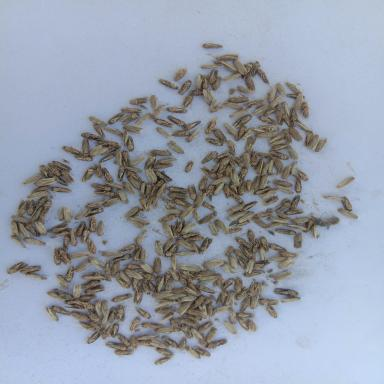pbw: (6, 261, 28, 275), (216, 156, 233, 174), (232, 115, 252, 129), (61, 145, 86, 156), (22, 173, 43, 186), (119, 113, 140, 126), (273, 200, 294, 213), (48, 222, 72, 233), (340, 196, 356, 212), (51, 289, 74, 300), (127, 217, 150, 228), (86, 330, 104, 344), (158, 78, 179, 90), (89, 144, 107, 158), (176, 239, 197, 251), (58, 247, 72, 265), (273, 286, 298, 296), (198, 212, 217, 225), (84, 284, 106, 295), (50, 305, 72, 316), (51, 160, 71, 172), (260, 194, 280, 206), (288, 126, 303, 142), (149, 149, 173, 159), (167, 115, 187, 127), (209, 99, 226, 113), (193, 191, 207, 208), (130, 96, 148, 109), (205, 117, 218, 135), (166, 141, 184, 154), (154, 170, 173, 182), (192, 345, 211, 357), (50, 174, 69, 186), (40, 198, 52, 217), (165, 243, 180, 258), (60, 170, 75, 185), (202, 183, 217, 198), (180, 323, 194, 339), (89, 256, 105, 270), (161, 224, 175, 240), (238, 296, 252, 312), (92, 123, 106, 139), (34, 220, 48, 236), (116, 333, 132, 347), (204, 327, 218, 343), (179, 205, 195, 219), (190, 294, 206, 308), (24, 223, 40, 237), (75, 208, 92, 221), (123, 206, 140, 219), (107, 112, 124, 125), (199, 166, 216, 179), (197, 274, 219, 284), (203, 258, 225, 268), (179, 262, 201, 272), (70, 310, 90, 321), (100, 145, 122, 155), (168, 192, 190, 202), (180, 222, 198, 234), (87, 238, 99, 256), (47, 290, 65, 302), (246, 278, 258, 296), (274, 270, 292, 282), (259, 187, 277, 199), (267, 132, 285, 144), (17, 199, 29, 217), (338, 176, 356, 188), (228, 210, 246, 222), (232, 276, 244, 294), (219, 61, 237, 73), (242, 61, 254, 79), (213, 128, 228, 142), (47, 163, 62, 177), (149, 338, 170, 348), (127, 175, 141, 190), (80, 279, 101, 289), (187, 308, 208, 318), (157, 214, 178, 224), (134, 229, 148, 244), (88, 212, 98, 233), (150, 179, 164, 194), (197, 285, 218, 295), (178, 316, 199, 326), (224, 122, 238, 137), (155, 347, 174, 358), (180, 268, 199, 279), (124, 268, 143, 279), (136, 113, 152, 126), (234, 125, 247, 141), (202, 151, 218, 164), (314, 137, 327, 153), (17, 222, 30, 238), (56, 274, 69, 290), (10, 235, 26, 248), (23, 237, 46, 246), (19, 265, 42, 274), (34, 178, 57, 187), (74, 260, 91, 272), (197, 320, 214, 332), (162, 336, 179, 348), (202, 88, 214, 105), (172, 198, 192, 208), (176, 295, 201, 303), (92, 272, 112, 282), (304, 126, 314, 146), (154, 118, 174, 128), (257, 150, 277, 160), (84, 207, 104, 217), (229, 108, 249, 118), (268, 150, 288, 160), (10, 220, 20, 240), (243, 268, 265, 277), (213, 151, 231, 162), (102, 196, 120, 207), (122, 125, 144, 134), (224, 204, 246, 213), (95, 219, 106, 237), (78, 321, 96, 332), (85, 199, 107, 208), (240, 200, 258, 211), (110, 253, 132, 262), (119, 271, 133, 285), (174, 67, 188, 81), (177, 301, 191, 315), (233, 60, 247, 74), (45, 308, 59, 322), (116, 276, 131, 289), (211, 182, 224, 197), (152, 104, 165, 119), (161, 196, 176, 209), (199, 237, 212, 252), (179, 80, 192, 95), (229, 190, 244, 203), (145, 168, 157, 184), (80, 132, 104, 140), (292, 232, 304, 248), (134, 306, 150, 318), (100, 180, 124, 188), (138, 262, 154, 274), (156, 127, 172, 139), (294, 120, 310, 132), (26, 191, 50, 199), (129, 155, 145, 167), (235, 236, 251, 248), (11, 214, 30, 224), (88, 116, 107, 126), (167, 186, 188, 195), (222, 101, 243, 110), (245, 136, 256, 153), (140, 278, 151, 295), (31, 207, 42, 224), (225, 291, 236, 308), (132, 245, 143, 262), (105, 342, 128, 350), (91, 183, 114, 191), (154, 306, 177, 314), (155, 183, 169, 196), (224, 320, 237, 334), (143, 155, 156, 169), (190, 326, 204, 339), (295, 168, 309, 181), (87, 309, 100, 323), (128, 316, 141, 330), (269, 95, 283, 108), (186, 129, 199, 143), (237, 286, 250, 300), (123, 182, 137, 195), (252, 259, 270, 269), (258, 115, 276, 125), (223, 72, 241, 82), (50, 230, 70, 239), (220, 278, 235, 290), (249, 61, 261, 76), (82, 167, 94, 182), (268, 243, 288, 252), (248, 294, 260, 309), (181, 94, 193, 109), (216, 219, 228, 234), (142, 182, 152, 200), (294, 92, 304, 110), (278, 259, 296, 269), (30, 185, 50, 194), (127, 170, 142, 182), (271, 179, 293, 187), (244, 257, 255, 273), (309, 134, 320, 150), (252, 105, 268, 116), (259, 174, 270, 190), (170, 129, 192, 137), (184, 120, 200, 131), (254, 158, 265, 174), (152, 298, 174, 306), (206, 340, 228, 348), (111, 294, 133, 302), (238, 212, 254, 223), (76, 221, 87, 237), (50, 186, 72, 194), (66, 252, 91, 259), (231, 219, 250, 228), (252, 187, 271, 196), (65, 266, 75, 283), (155, 275, 165, 292), (187, 184, 197, 201), (254, 281, 264, 298), (190, 242, 203, 255), (242, 127, 255, 140), (216, 290, 228, 304), (246, 318, 258, 332), (266, 304, 278, 318), (162, 238, 174, 252), (238, 246, 252, 258), (255, 210, 276, 218), (253, 217, 267, 229), (117, 244, 138, 252), (287, 82, 301, 94), (250, 176, 262, 190), (184, 285, 199, 296), (118, 189, 129, 204), (290, 195, 301, 210), (257, 69, 268, 84), (208, 70, 219, 85), (160, 312, 175, 323), (100, 298, 109, 316), (204, 137, 222, 146), (276, 185, 294, 194), (53, 248, 62, 266), (137, 334, 160, 341), (150, 291, 173, 298), (271, 143, 291, 151), (80, 228, 90, 244), (324, 193, 344, 201), (110, 322, 120, 338), (258, 298, 278, 306), (124, 136, 134, 152), (259, 236, 269, 252), (186, 276, 196, 292), (102, 127, 122, 135), (73, 153, 93, 161), (88, 320, 104, 330), (99, 153, 115, 163), (155, 326, 175, 334), (101, 326, 113, 339), (235, 248, 248, 260), (238, 317, 250, 330), (232, 156, 245, 168), (258, 125, 280, 132), (281, 164, 292, 178), (140, 198, 151, 212), (102, 168, 113, 182), (141, 322, 163, 329), (170, 318, 181, 332), (228, 96, 250, 103), (120, 106, 142, 113), (25, 273, 47, 280), (111, 261, 120, 278), (69, 229, 78, 246), (301, 101, 310, 118), (116, 305, 125, 322), (294, 175, 302, 194), (251, 150, 259, 169), (79, 294, 98, 302), (304, 218, 314, 233), (212, 76, 222, 91), (245, 76, 255, 91), (252, 238, 262, 253), (226, 140, 236, 155), (268, 87, 278, 102), (284, 208, 305, 215), (281, 296, 302, 303), (180, 231, 201, 238), (268, 216, 289, 223), (237, 180, 246, 196), (223, 182, 231, 200), (65, 206, 74, 222), (139, 248, 148, 264), (201, 74, 210, 90), (154, 256, 162, 274), (274, 159, 283, 175), (268, 139, 286, 147), (212, 176, 230, 184), (213, 305, 229, 314), (81, 138, 89, 156), (96, 140, 120, 146), (292, 216, 310, 224), (108, 306, 116, 324), (146, 195, 157, 208), (169, 268, 180, 281), (39, 164, 49, 178), (214, 273, 224, 287), (176, 219, 186, 233), (216, 165, 226, 179), (239, 167, 249, 181), (186, 348, 200, 358), (212, 158, 222, 172), (229, 172, 239, 186), (184, 160, 194, 174), (198, 176, 208, 190), (288, 146, 298, 160), (93, 190, 116, 196), (80, 274, 103, 280), (103, 260, 111, 277), (283, 128, 292, 143), (209, 221, 218, 236), (73, 284, 82, 299), (220, 264, 235, 273), (279, 251, 298, 258), (137, 340, 156, 347), (195, 269, 214, 276), (146, 280, 157, 292), (166, 107, 188, 113), (130, 277, 140, 290), (202, 202, 215, 212), (228, 255, 238, 268), (155, 240, 163, 256), (27, 200, 35, 216), (170, 286, 186, 294), (138, 180, 146, 196), (121, 150, 129, 166), (276, 212, 292, 220), (114, 149, 122, 165), (196, 74, 204, 90), (150, 94, 158, 110), (170, 254, 178, 270), (245, 178, 253, 194), (154, 357, 170, 365), (198, 297, 212, 306), (264, 107, 278, 116), (276, 108, 283, 126), (182, 314, 203, 320), (113, 350, 134, 356), (134, 290, 143, 304), (256, 132, 277, 138), (276, 229, 297, 235), (242, 152, 251, 166), (237, 312, 255, 319), (124, 166, 142, 173), (198, 332, 207, 346), (202, 42, 222, 48), (247, 229, 255, 244), (38, 210, 46, 225), (237, 258, 247, 270), (276, 83, 286, 95), (95, 163, 103, 178), (286, 224, 306, 230), (228, 157, 236, 172), (166, 294, 186, 300), (244, 100, 264, 106), (130, 334, 138, 349), (237, 86, 254, 93), (63, 234, 70, 251), (125, 263, 142, 270), (178, 337, 187, 350), (158, 158, 177, 164), (219, 54, 238, 60), (178, 271, 186, 285), (229, 308, 236, 324), (122, 130, 129, 146), (290, 161, 298, 175), (206, 303, 214, 317), (166, 278, 174, 292), (291, 106, 298, 122), (261, 162, 269, 176), (102, 310, 110, 324), (171, 224, 179, 238), (283, 102, 291, 116), (198, 304, 208, 315), (101, 252, 123, 257), (138, 272, 156, 278), (152, 164, 173, 169), (227, 227, 242, 234), (58, 206, 65, 221), (118, 166, 125, 181), (259, 246, 266, 261), (230, 181, 238, 194), (186, 274, 203, 280), (268, 256, 288, 261), (185, 236, 205, 241), (175, 251, 195, 256), (200, 64, 220, 69), (163, 209, 183, 214), (164, 271, 171, 285), (193, 207, 200, 221), (96, 300, 102, 316), (312, 223, 318, 239), (267, 223, 286, 228), (226, 244, 234, 255), (190, 90, 204, 96), (268, 159, 273, 175), (287, 94, 305, 98), (253, 128, 267, 133), (310, 212, 318, 220), (208, 194, 213, 202)
